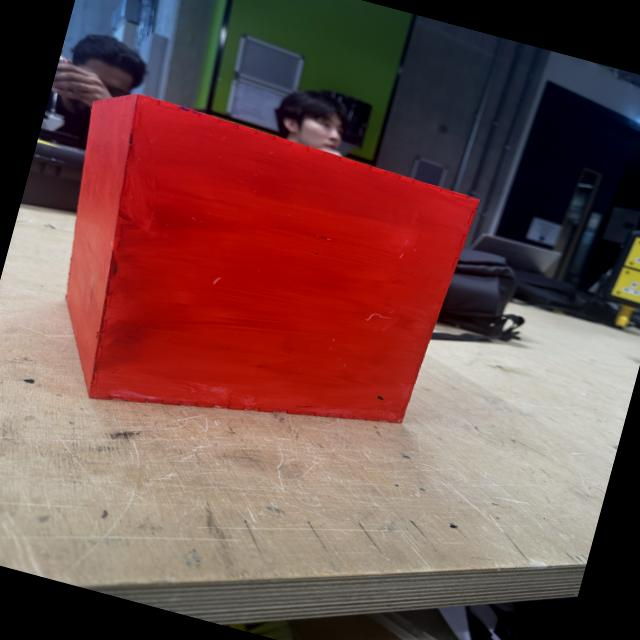red_bin: (16, 82, 484, 484)
